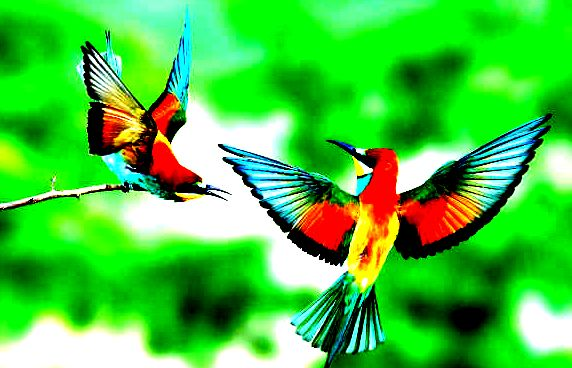Bird: (218, 107, 555, 364), (71, 2, 231, 203)
